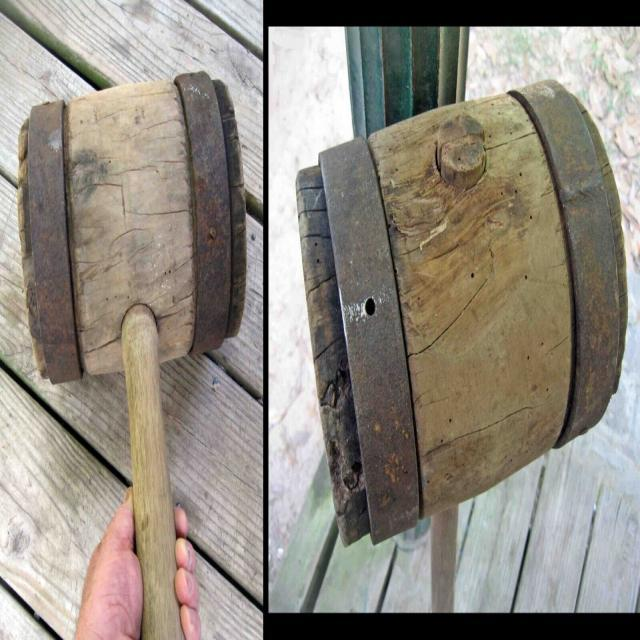hammer: (292, 67, 632, 640), (12, 57, 250, 640)
